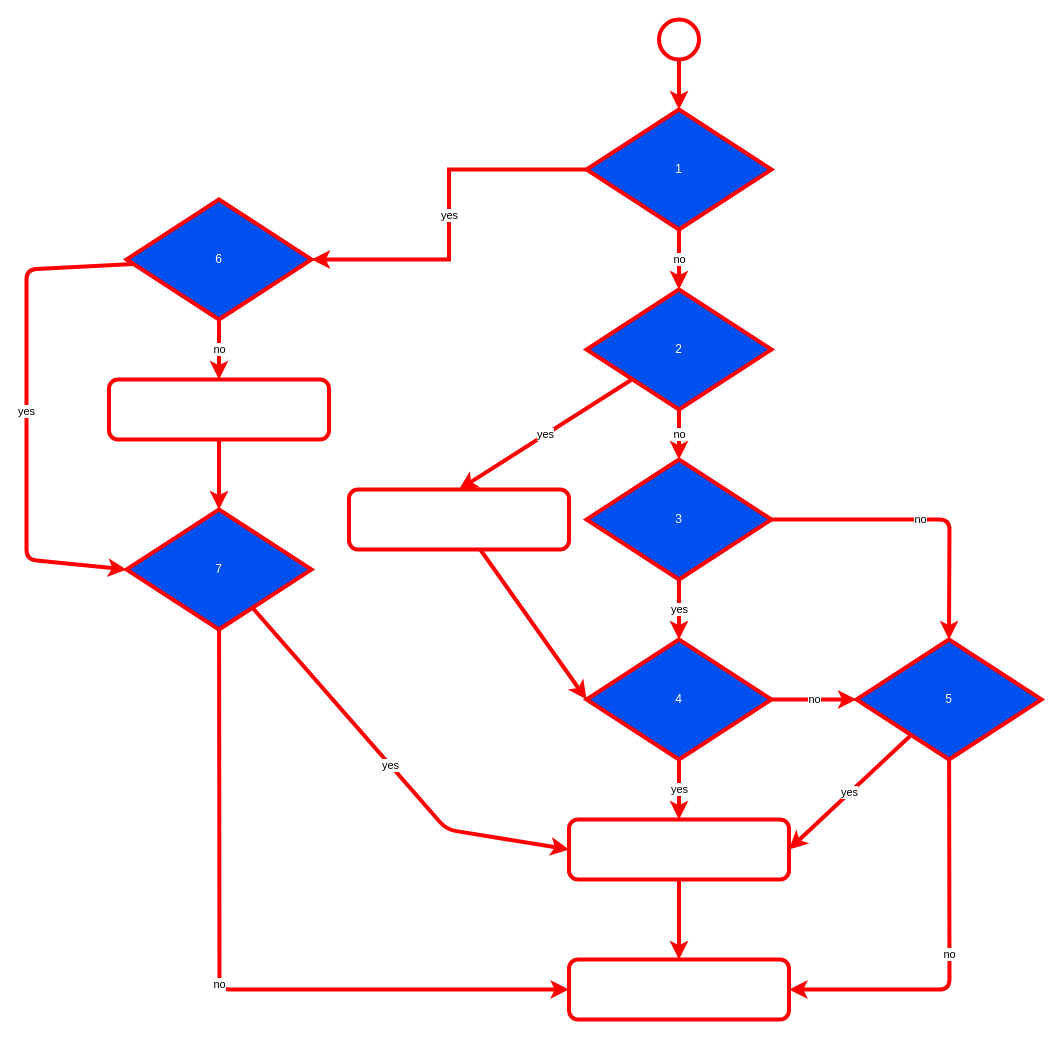
Some shapes in this 1060 by 1038 pixel diagram are drawn without their labels. The centre of each missing label's shape, as x and y in pixels:
EXIT: (x=678, y=989)
PA: (x=458, y=519)
PB: (x=218, y=409)
PC: (x=678, y=849)
